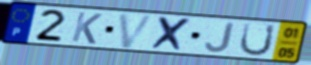2: (33, 9, 69, 44)
J: (204, 22, 237, 54)
K: (69, 11, 104, 46)
U: (237, 21, 278, 58)
V: (117, 12, 157, 50)
X: (149, 15, 195, 53)
